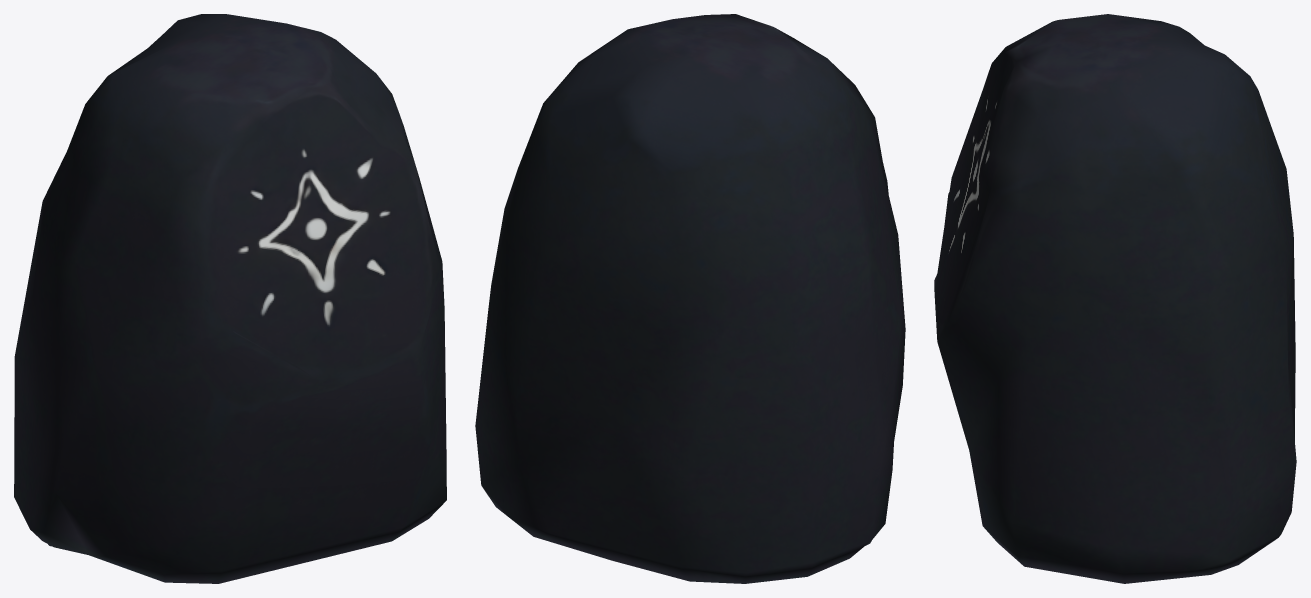
The model's file is Meshy_AI_model_20261128_texture.fbx.
The picture shows the model from 3 angles, left to right: view 1: azimuth 30°, elevation 25°; view 2: azimuth 150°, elevation 25°; view 3: azimuth 270°, elevation 25°; orthographic projection. The views are drawn at different scales.
Parts seen in each view (by area): view 1: geometry_0; view 2: geometry_0; view 3: geometry_0.
Boxes of the visible parts, x1,y1,x2,y2 form: geometry_0: (14, 14, 446, 583); geometry_0: (475, 14, 905, 583); geometry_0: (934, 14, 1296, 583).
Size of the model in its own units: 84.54 by 99.95 by 71.17.
1 material, 1 textured.
